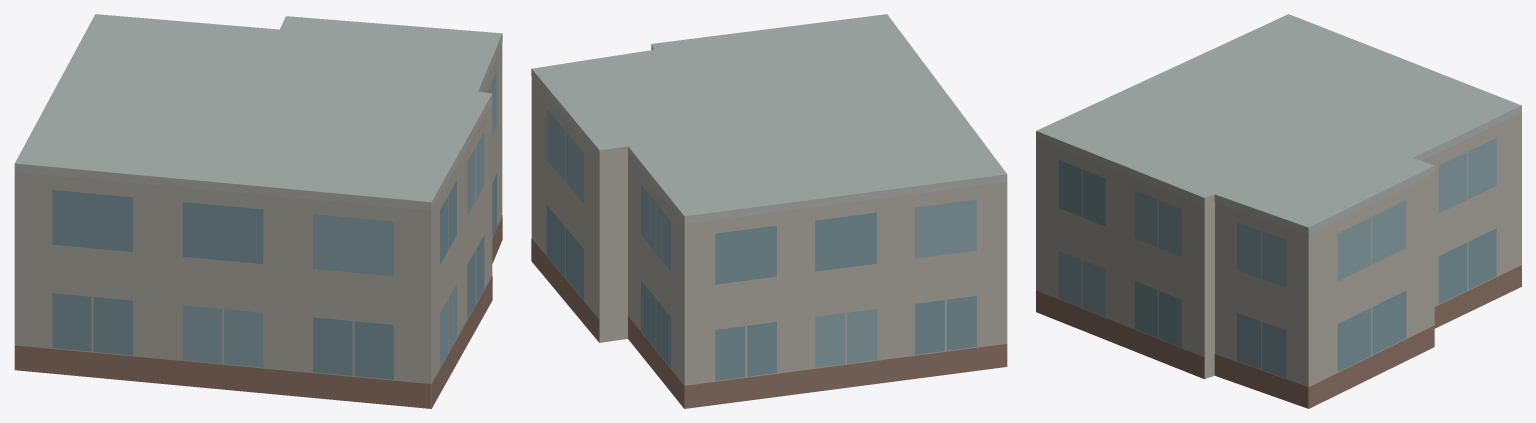
Rendered from survey-upis-32561863.glb.
3 renders of one model, left to right at view 1: azimuth 30°, elevation 25°; view 2: azimuth 150°, elevation 25°; view 3: azimuth 270°, elevation 25°, orthographic. The views are drawn at different scales.
Visible parts, largest first — view 1: survey-upis-32561863.tmp; view 2: survey-upis-32561863.tmp; view 3: survey-upis-32561863.tmp.
Part boxes in pixels (<box>): survey-upis-32561863.tmp: <box>14,14,502,408</box>; survey-upis-32561863.tmp: <box>531,14,1007,408</box>; survey-upis-32561863.tmp: <box>1036,14,1521,408</box>.
Bounding box in the file's own units: 15.43 × 6.1 × 14.82.
